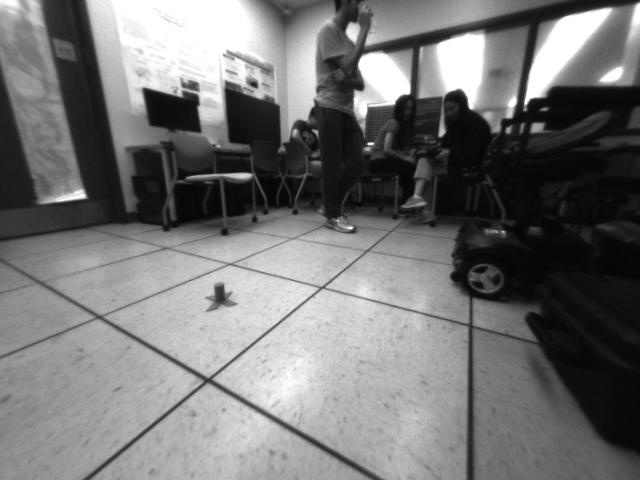x: (202, 280, 242, 314)
